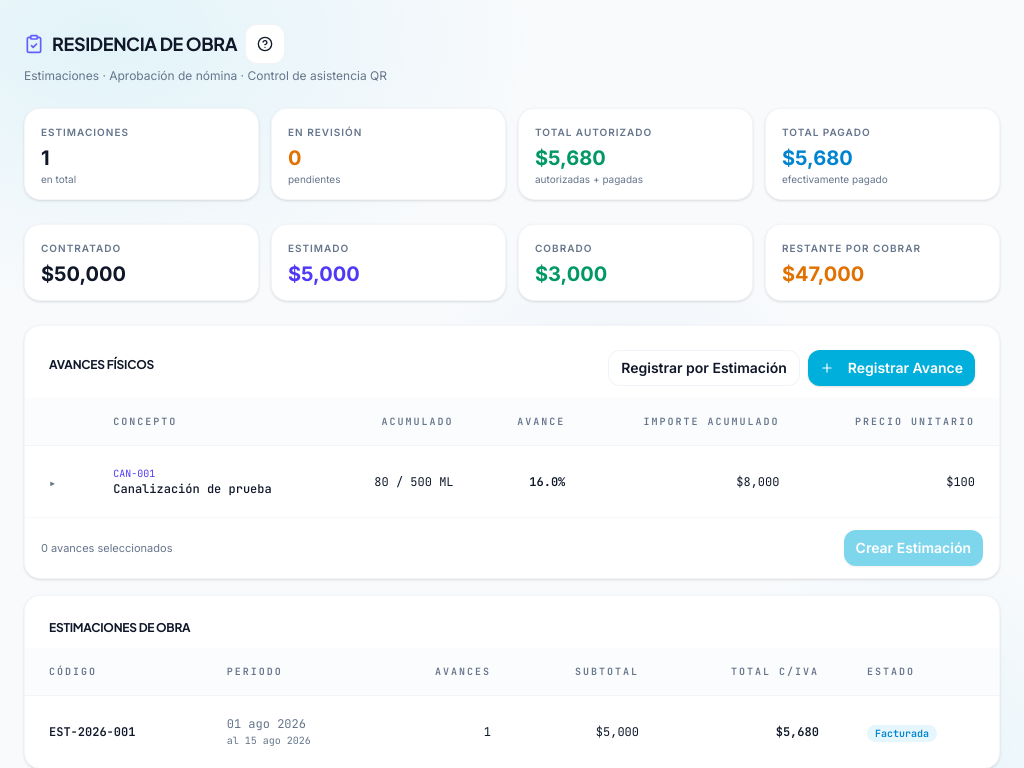
Test: Avances agrupados por concepto › un concepto con varios avances aparece en una sola fila, con detalle expandible
Check: the text "EST-2026-001" is shown, box 25,696 -> 203,767
Check: the text "80 / 500 ML" is shown, box 330,446 -> 478,517
Click the button named "Ver detalle Canalización de prueba" at (53, 482), box 49,474 -> 56,490
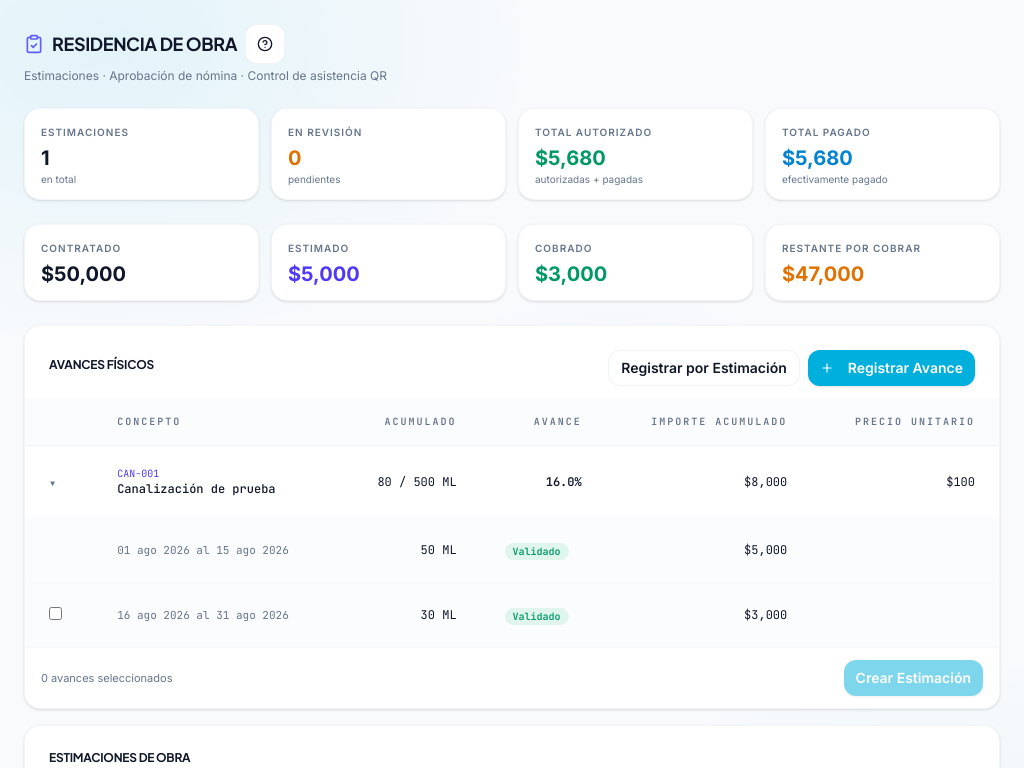
Check: the checkbox named "CAN-001 — av-2" is shown, box 49,607 -> 62,620
